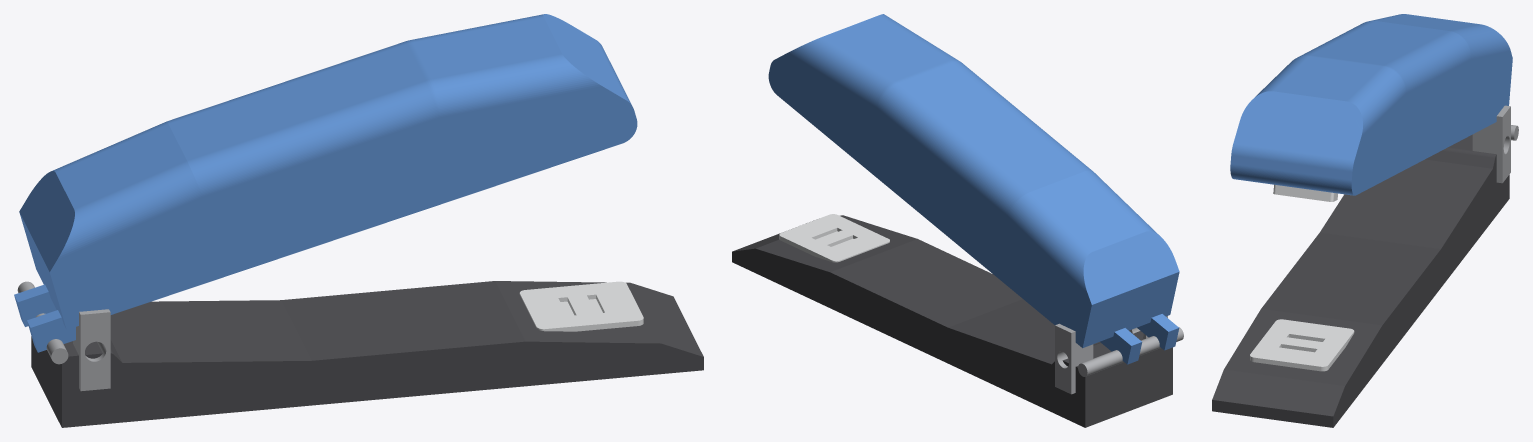
The model's file is desk_stapler_placement_b7105b68.glb.
3 views of the same model, side by side, from view 1: azimuth 30°, elevation 25°; view 2: azimuth 150°, elevation 25°; view 3: azimuth 270°, elevation 25° (orthographic). The views are drawn at different scales.
Visible parts, largest first — view 1: Desk_Stapler / top_arm_arm_shell, Desk_Stapler / base_base_body, Desk_Stapler / base_anvil_plate, Desk_Stapler / base_hinge_knuckles; view 2: Desk_Stapler / top_arm_arm_shell, Desk_Stapler / base_base_body, Desk_Stapler / base_anvil_plate, Desk_Stapler / base_hinge_knuckles, Desk_Stapler / top_arm_hinge_pin; view 3: Desk_Stapler / base_base_body, Desk_Stapler / top_arm_arm_shell, Desk_Stapler / base_anvil_plate, Desk_Stapler / base_hinge_knuckles, Desk_Stapler / top_arm_driver_blade.
Part boxes in pixels (x1,y1,x2,y2): Desk_Stapler / top_arm_arm_shell: (14, 14, 637, 352); Desk_Stapler / base_base_body: (31, 281, 703, 427); Desk_Stapler / base_anvil_plate: (519, 281, 643, 331); Desk_Stapler / base_hinge_knuckles: (73, 309, 110, 391); Desk_Stapler / top_arm_arm_shell: (768, 14, 1179, 364); Desk_Stapler / base_base_body: (732, 215, 1172, 427); Desk_Stapler / base_anvil_plate: (779, 214, 889, 262); Desk_Stapler / base_hinge_knuckles: (1055, 316, 1167, 394); Desk_Stapler / top_arm_hinge_pin: (1078, 327, 1183, 376); Desk_Stapler / base_base_body: (1212, 134, 1509, 427); Desk_Stapler / top_arm_arm_shell: (1230, 14, 1512, 195); Desk_Stapler / base_anvil_plate: (1250, 319, 1354, 371); Desk_Stapler / base_hinge_knuckles: (1472, 105, 1510, 183); Desk_Stapler / top_arm_driver_blade: (1273, 184, 1337, 201).
Size of the model in its own units: 0.1899 by 0.0963 by 0.0969.
